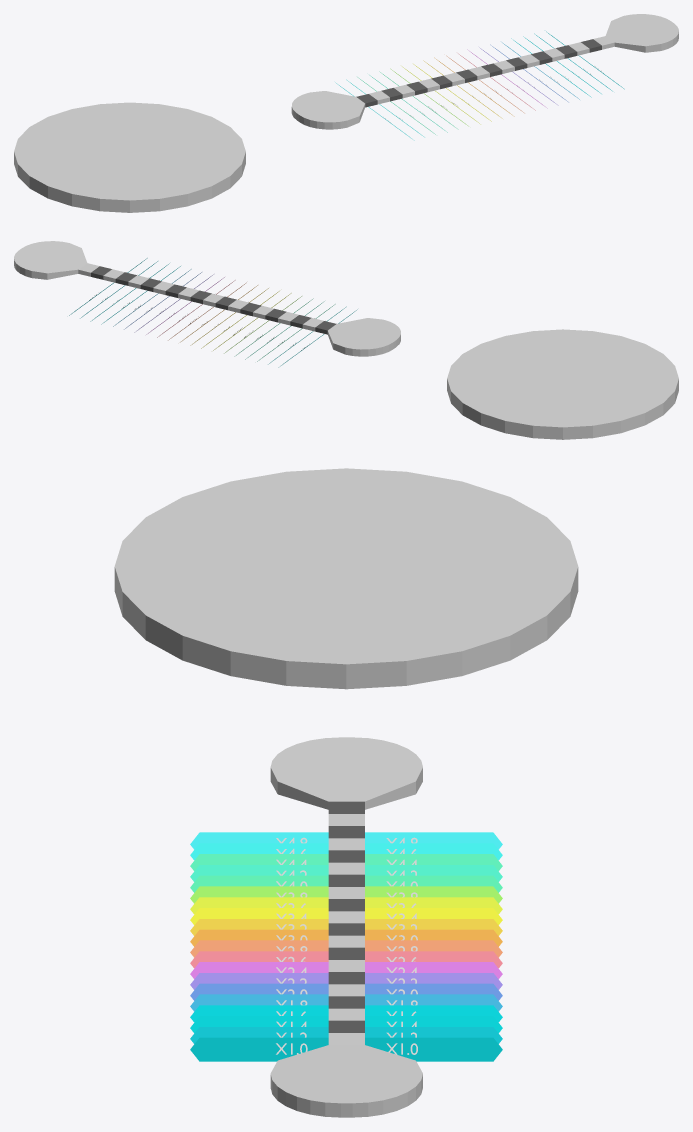
File: platform2.fbx
The picture shows the model from 3 angles, top to bottom: view 1: azimuth 30°, elevation 25°; view 2: azimuth 150°, elevation 25°; view 3: azimuth 270°, elevation 25°; orthographic projection. The views are drawn at different scales.
Parts seen in each view (by area): view 1: Cylinder, Cube.011; view 2: Cylinder, Cube.011; view 3: Cylinder, Cube.011, Plane.019, Plane.015, Plane.014, Plane.004, Plane.005, Plane.009, Plane.010, Plane, Plane.016, Plane.006 (+10 smaller).
Boxes of the visible parts, x1,y1,x2,y2 form: Cylinder: (14, 102, 245, 212); Cube.011: (291, 14, 678, 129); Cylinder: (447, 329, 678, 439); Cube.011: (14, 241, 400, 356); Cylinder: (114, 468, 578, 689); Cube.011: (270, 737, 422, 1117); Plane.019: (190, 1037, 502, 1061); Plane.015: (190, 994, 502, 1011); Plane.014: (190, 983, 502, 1000); Plane.004: (190, 875, 502, 892); Plane.005: (190, 886, 502, 903); Plane.009: (190, 929, 502, 946); Plane.010: (190, 940, 502, 957); Plane: (190, 832, 502, 849); Plane.016: (190, 1005, 502, 1022); Plane.006: (190, 897, 502, 914).
Size of the model in its own units: 11627 by 410 by 3629.
